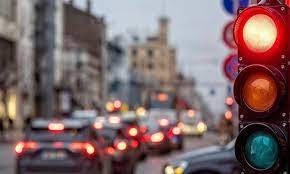red: (232, 4, 289, 174)
